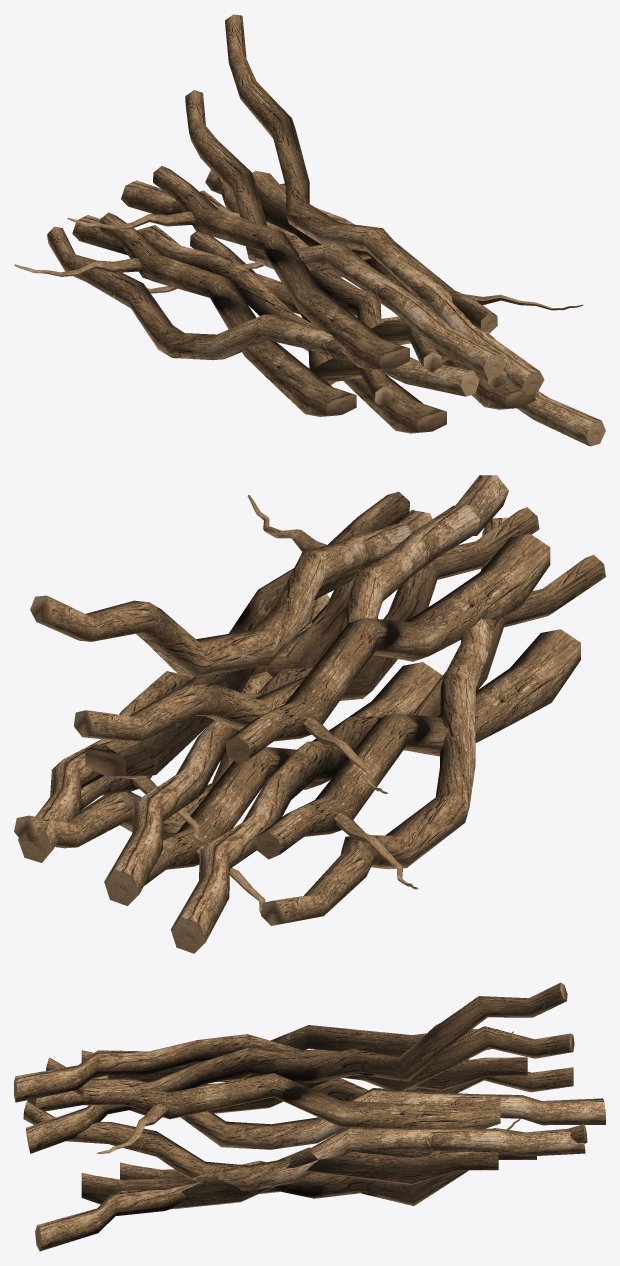
Rendered from Wood Branches.fbx.
The picture shows the model from 3 angles, top to bottom: view 1: azimuth 30°, elevation 25°; view 2: azimuth 150°, elevation 25°; view 3: azimuth 270°, elevation 25°; orthographic projection. The views are drawn at different scales.
Visible parts, largest first — view 1: Snag1.003; view 2: Snag1.003; view 3: Snag1.003.
Part boxes in pixels (x1,y1,x2,y2): Snag1.003: [14, 14, 605, 446]; Snag1.003: [14, 475, 605, 953]; Snag1.003: [14, 982, 605, 1251].
Bounding box in the file's own units: 168 × 117 × 266.
Materials: 1 (1 with a texture image).
